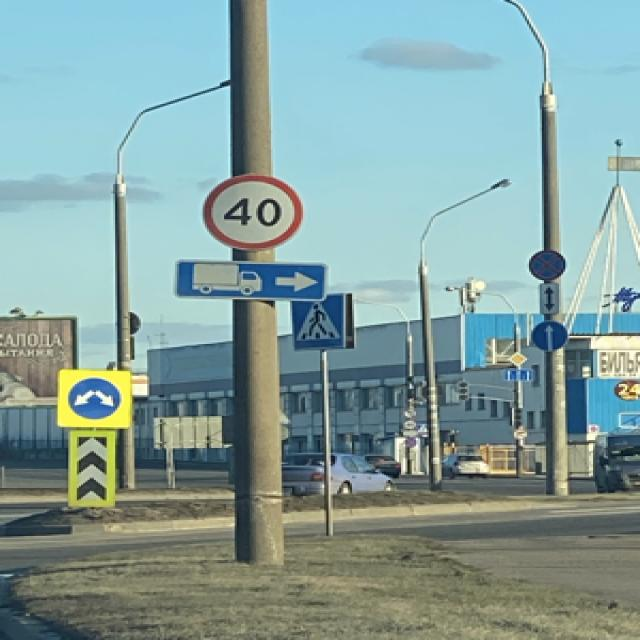crosswalk: (290, 292, 348, 351)
speedlimit: (203, 171, 303, 250)
